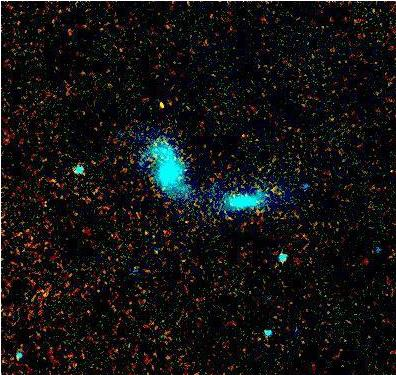star: (156, 90, 186, 120)
